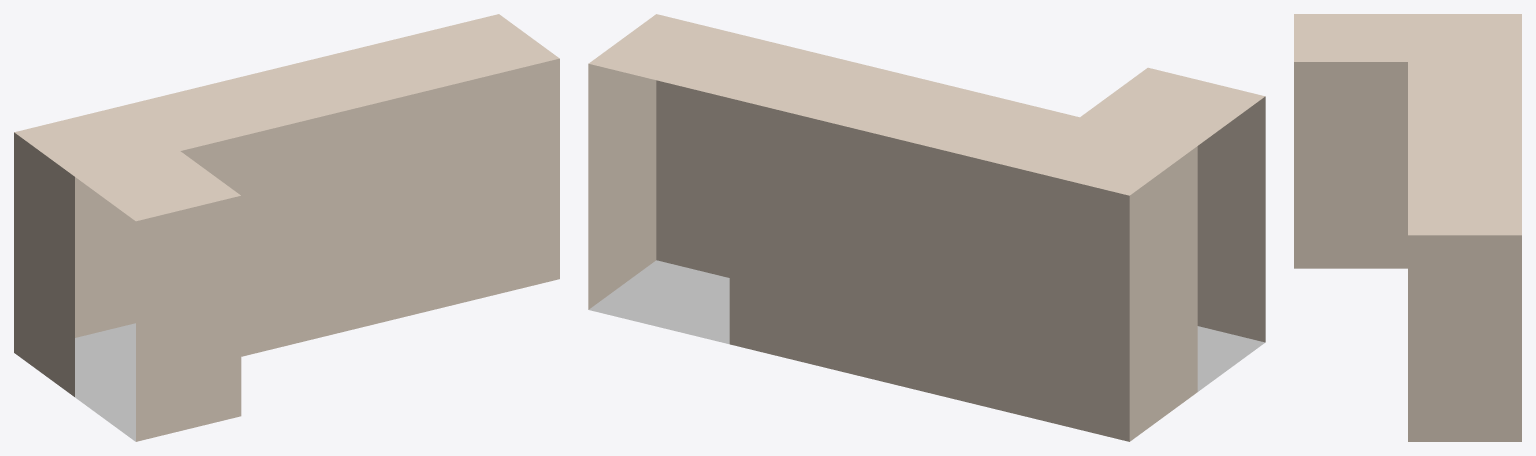
The model's file is L28-Hallway-3.obj.
The picture shows the model from 3 angles, left to right: view 1: azimuth 30°, elevation 25°; view 2: azimuth 150°, elevation 25°; view 3: azimuth 270°, elevation 25°; orthographic projection. The views are drawn at different scales.
Parts seen in each view (by area): view 1: L28-Hallway-3; view 2: L28-Hallway-3; view 3: L28-Hallway-3.
Part boxes in pixels (left/top/right/bottom): L28-Hallway-3: left=14, top=14, right=559, bottom=441; L28-Hallway-3: left=588, top=14, right=1265, bottom=441; L28-Hallway-3: left=1294, top=14, right=1521, bottom=441.
Size of the model in its own units: 11.5 by 5 by 5.
